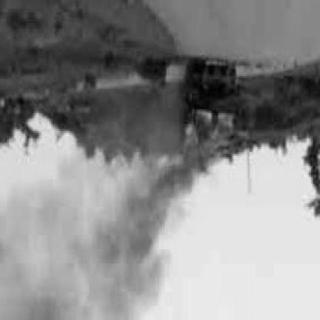Smoke: (103, 162, 203, 308)
